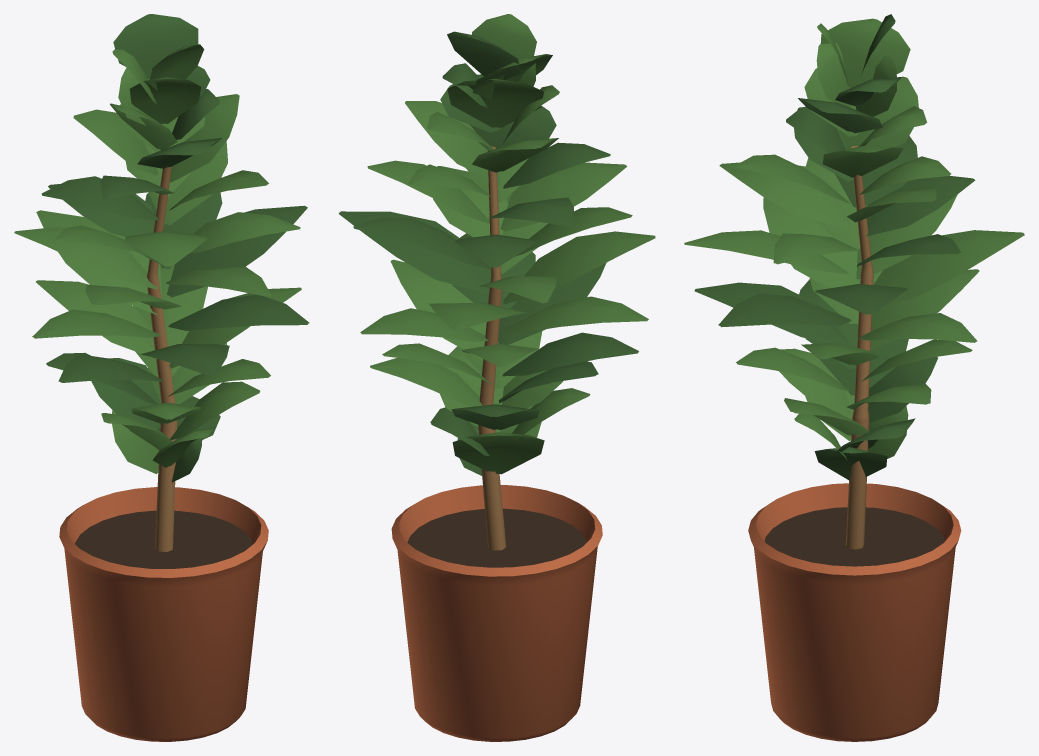
Rendered from plant_pot.glb.
3 renders of one model, left to right at view 1: azimuth 30°, elevation 25°; view 2: azimuth 150°, elevation 25°; view 3: azimuth 270°, elevation 25°, orthographic.
Parts seen in each view (by area): view 1: plant_pot; view 2: plant_pot; view 3: plant_pot.
Part boxes in pixels (x1=…): plant_pot: x1=14, y1=14, x2=309, y2=741; plant_pot: x1=338, y1=14, x2=655, y2=741; plant_pot: x1=684, y1=14, x2=1024, y2=741.
Bounding box in the file's own units: 2.68 × 6 × 2.69.
